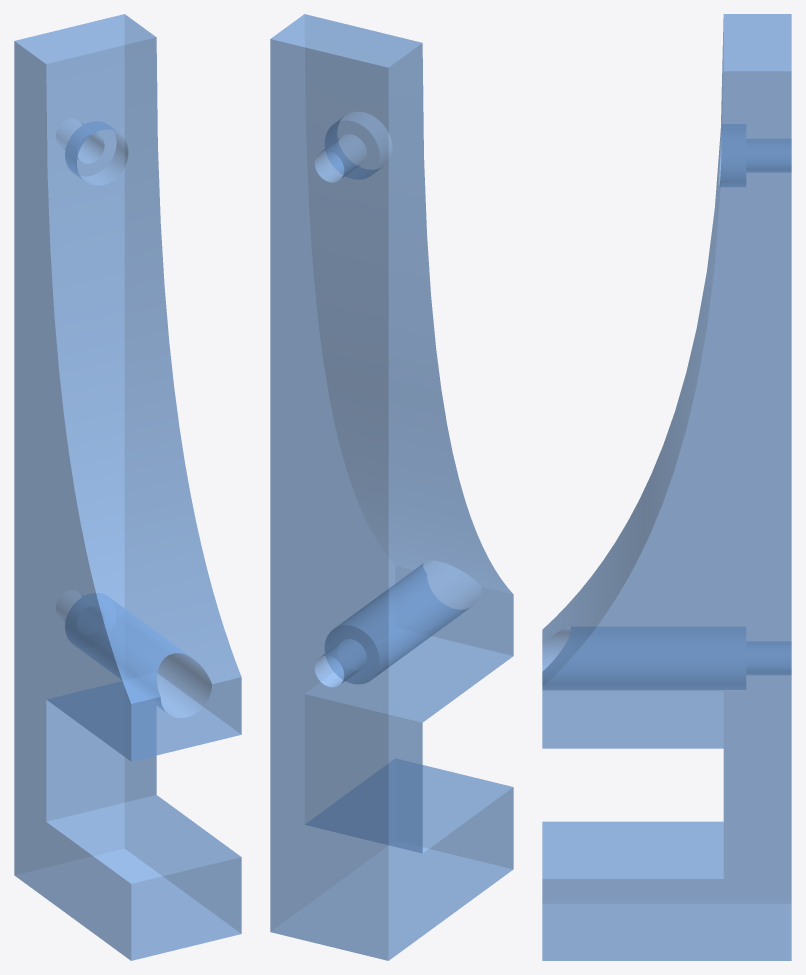
Rendered from rpi-breadboard-support.glb.
The picture shows the model from 3 angles, left to right: view 1: azimuth 30°, elevation 25°; view 2: azimuth 150°, elevation 25°; view 3: azimuth 270°, elevation 25°; orthographic projection. The views are drawn at different scales.
Visible parts, largest first — view 1: rpi support; view 2: rpi support; view 3: rpi support.
Part boxes in pixels (x1,y1,x2,y2): rpi support: [14, 14, 241, 960]; rpi support: [270, 14, 513, 960]; rpi support: [542, 14, 791, 960].
Size of the model in its own units: 12 by 86.7 by 22.
